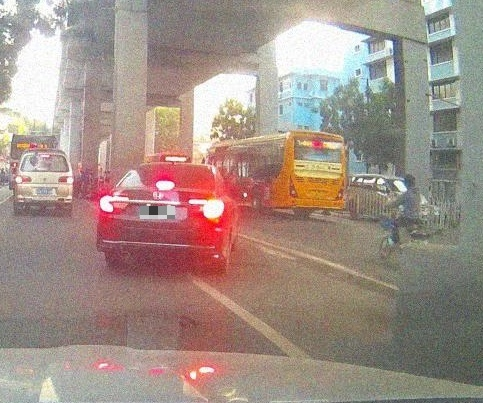L_light: (99, 195, 129, 213), (289, 176, 298, 198), (16, 175, 32, 183)
R_light: (189, 199, 225, 219), (333, 179, 345, 201), (58, 176, 73, 184)
T_light: (155, 180, 175, 189), (313, 157, 327, 162), (39, 154, 50, 157)
day-brake: (15, 148, 74, 213)
day-no: (286, 129, 346, 218)
day-right: (96, 162, 226, 273)
plate_1: (140, 206, 175, 219)
